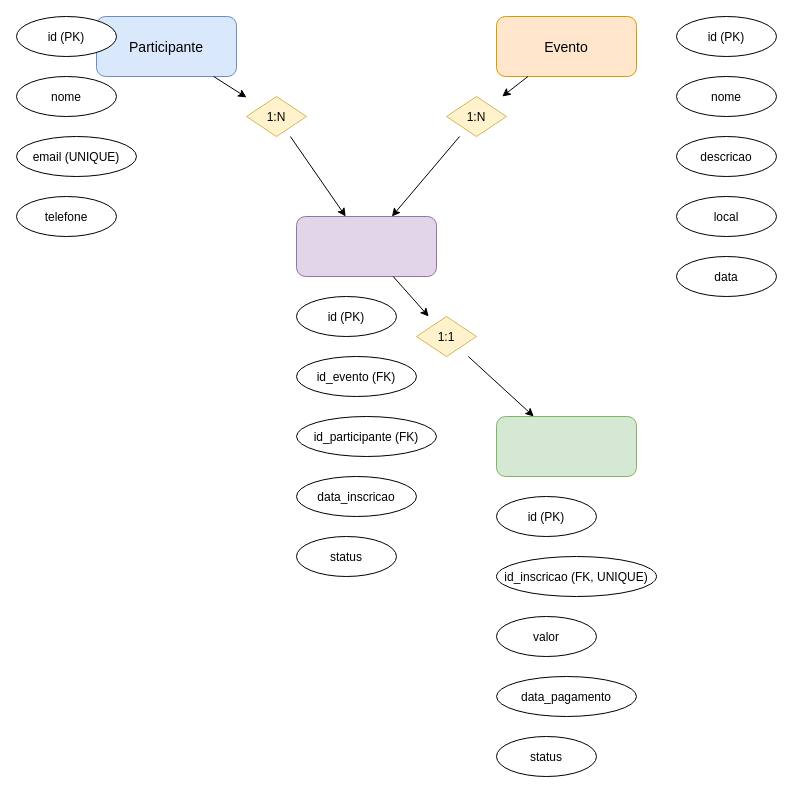
Some shapes in this 793 by 793 pixel diagram are drawn without their labels. Each missing label, with the centre of its shape:
"Inscrição" belongs at point 366,246.
"Pagamento" belongs at point 566,446.
